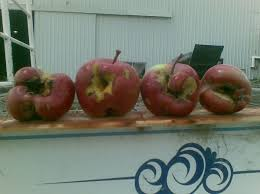damaged_apple: (79, 58, 138, 120), (10, 67, 73, 120), (142, 63, 199, 116), (201, 65, 254, 112)
